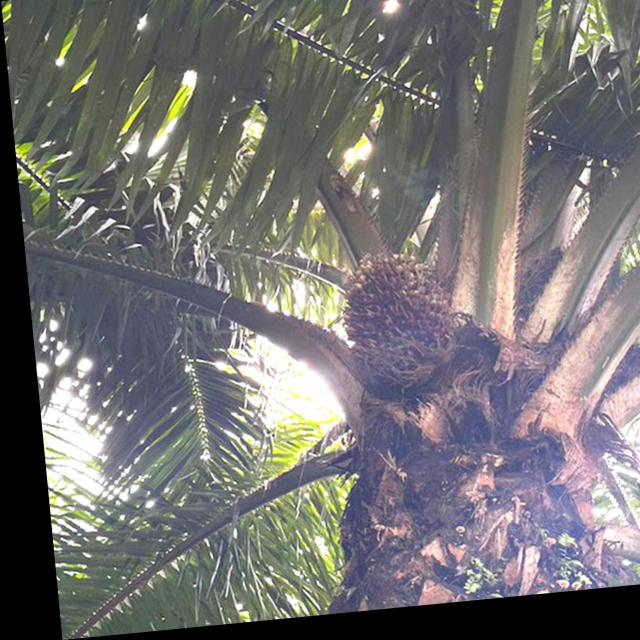ripe: (322, 240, 460, 412)
